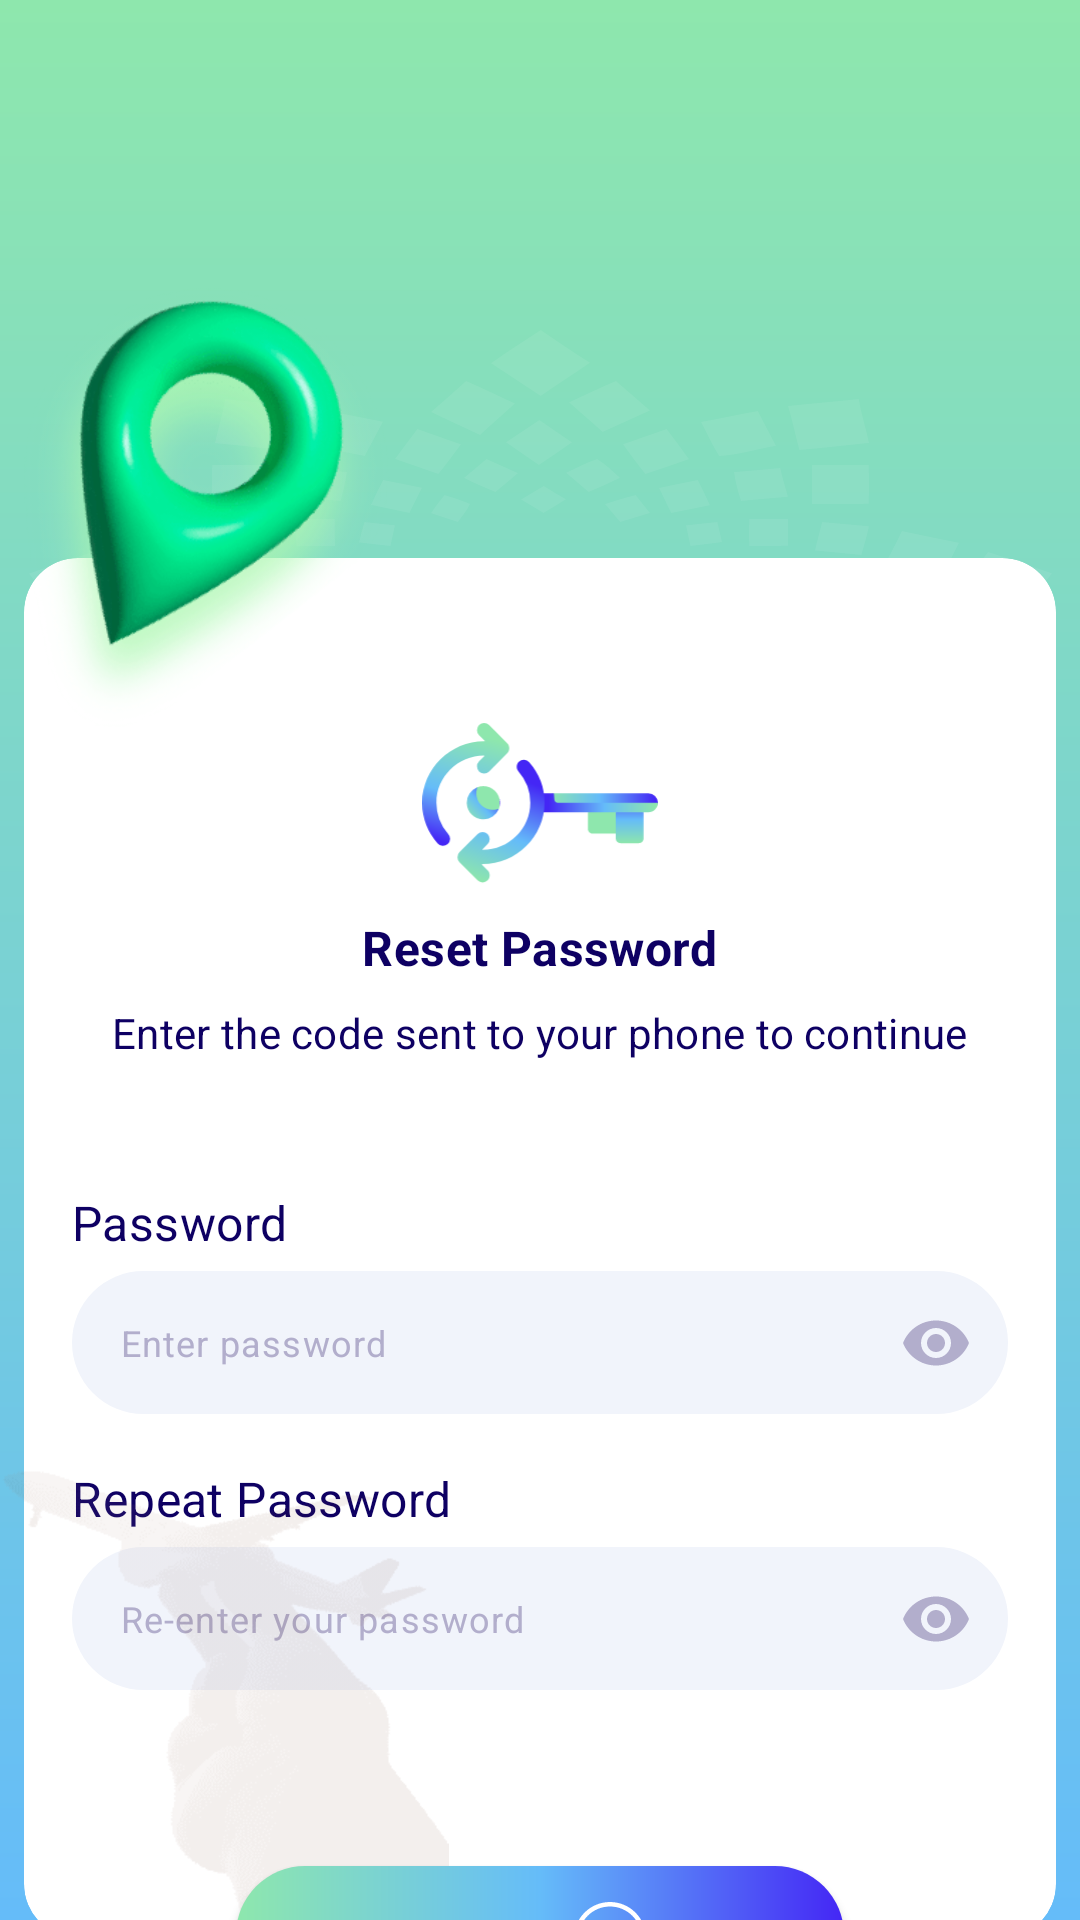

Named icons in this screenshot (1080×1920) and their bounding boxes, [left=x1, top=y1, right=x2, bottom=y2]:
reset key: [left=422, top=723, right=658, bottom=883]
